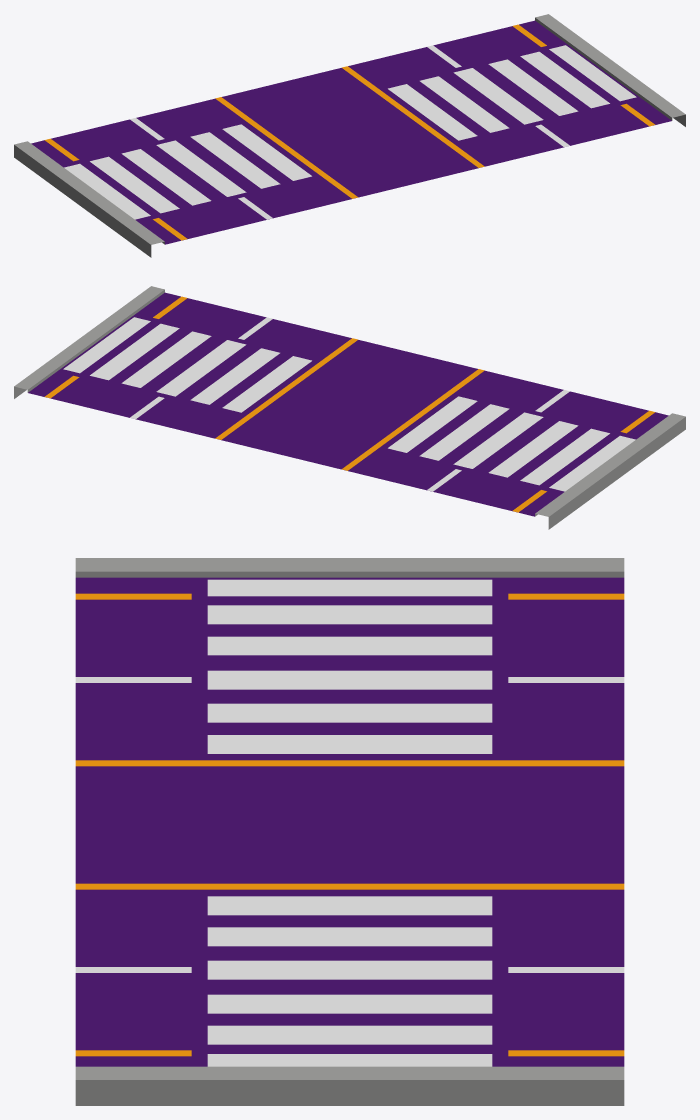
Rendered from Road_C_2L_1_8.fbx.
The picture shows the model from 3 angles, top to bottom: view 1: azimuth 30°, elevation 25°; view 2: azimuth 150°, elevation 25°; view 3: azimuth 270°, elevation 25°; orthographic projection. The views are drawn at different scales.
Visible parts, largest first — view 1: Road_C_2L_1_8; view 2: Road_C_2L_1_8; view 3: Road_C_2L_1_8.
Part boxes in pixels (x1=…): Road_C_2L_1_8: x1=14, y1=14, x2=685, y2=257; Road_C_2L_1_8: x1=14, y1=286, x2=685, y2=529; Road_C_2L_1_8: x1=75, y1=558, x2=624, y2=1105.
Bounding box in the file's own units: 1800 × 41.48 × 800.
